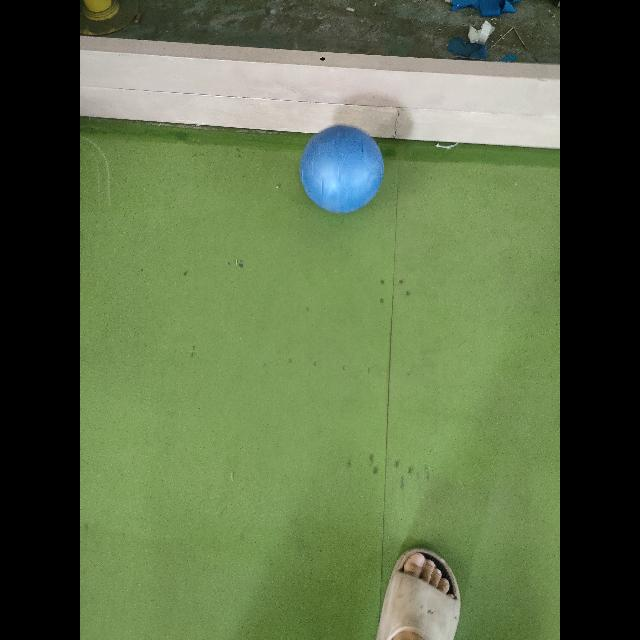B: (301, 125, 384, 212)
